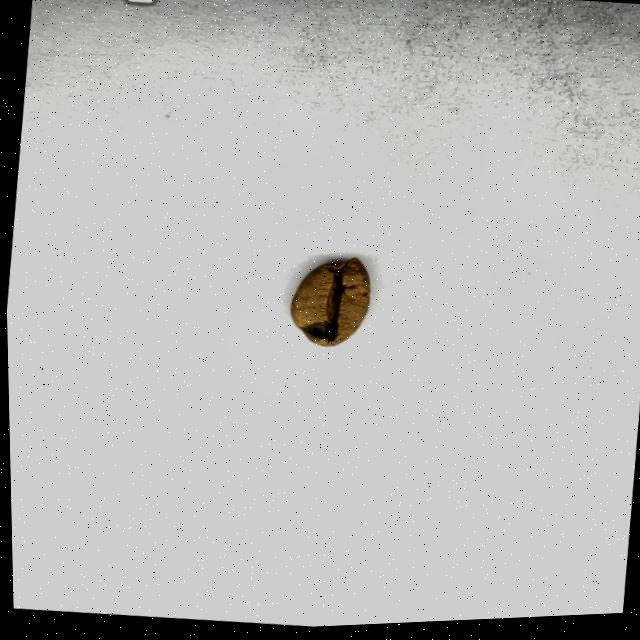Insect damage: (285, 256, 373, 353)
